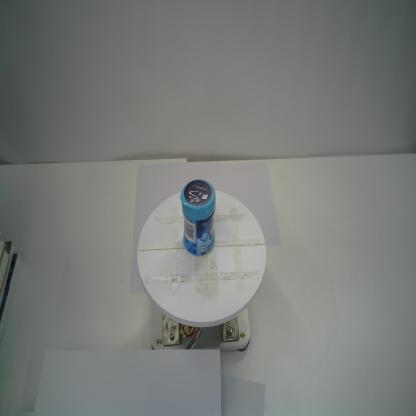Gum: (180, 178, 216, 257)
